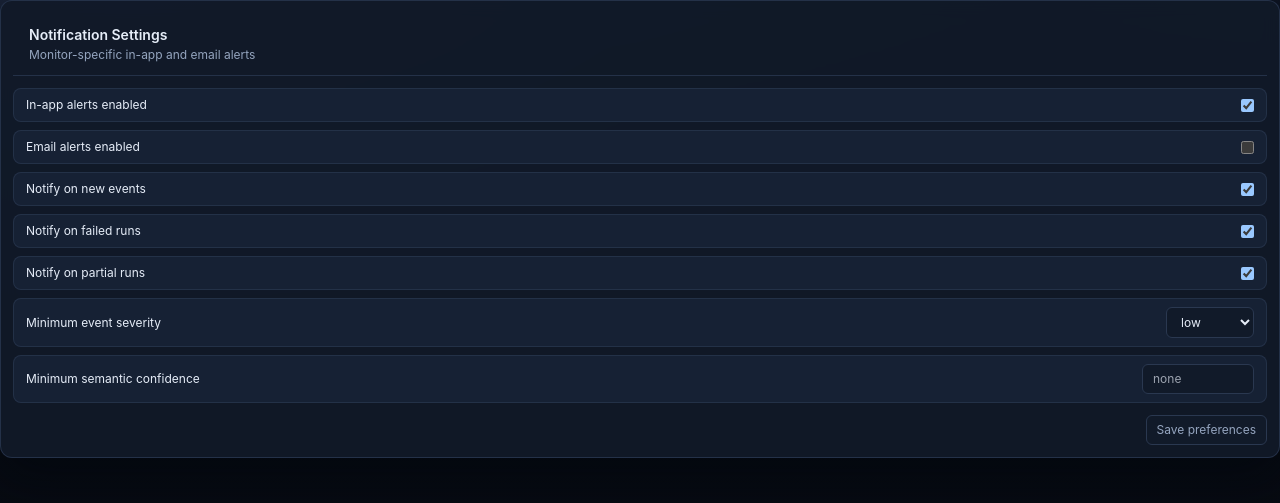
Test case: MonitorNotificationSettings › loads monitor preference and persists updates
Click the checkbox labelled "Email alerts enabled": (1248, 147) [1241,140,1254,154]
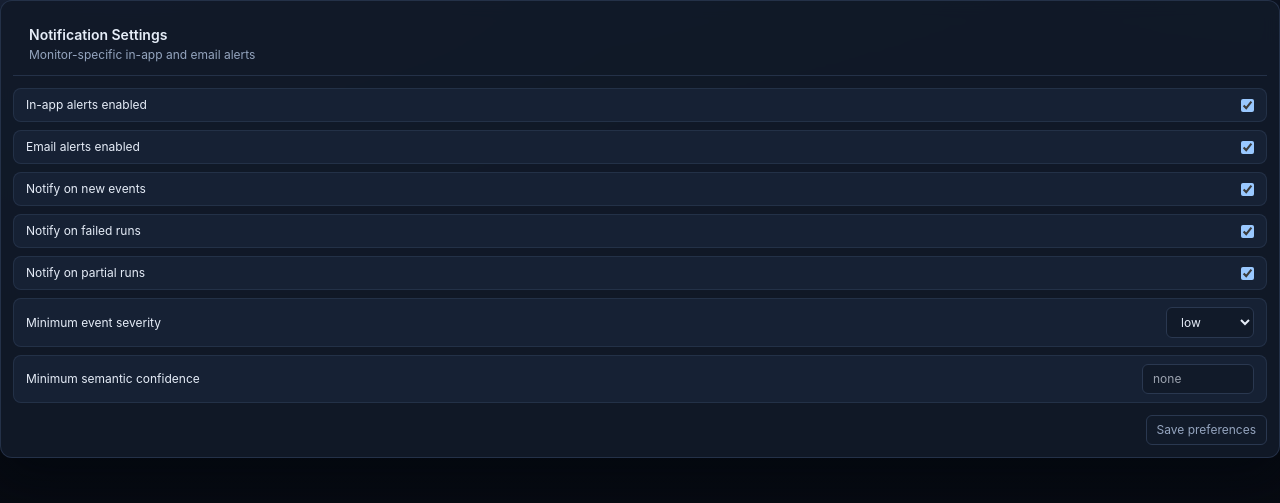
Click the button "Save preferences": (1206, 430) [1146,415,1267,445]
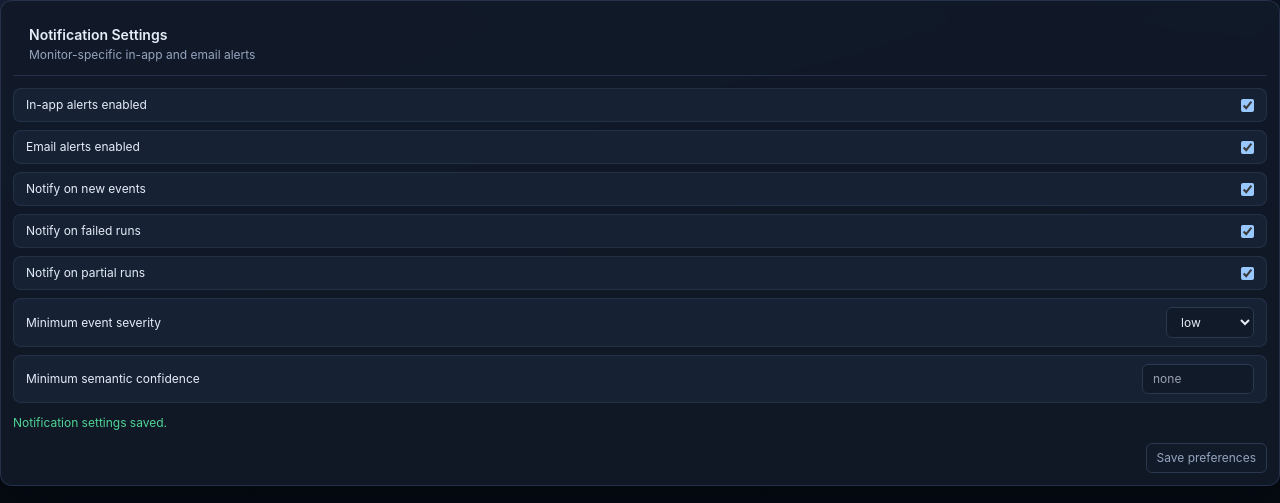
Now the text "Notification settings saved." is shown, box [13,415,167,430]
